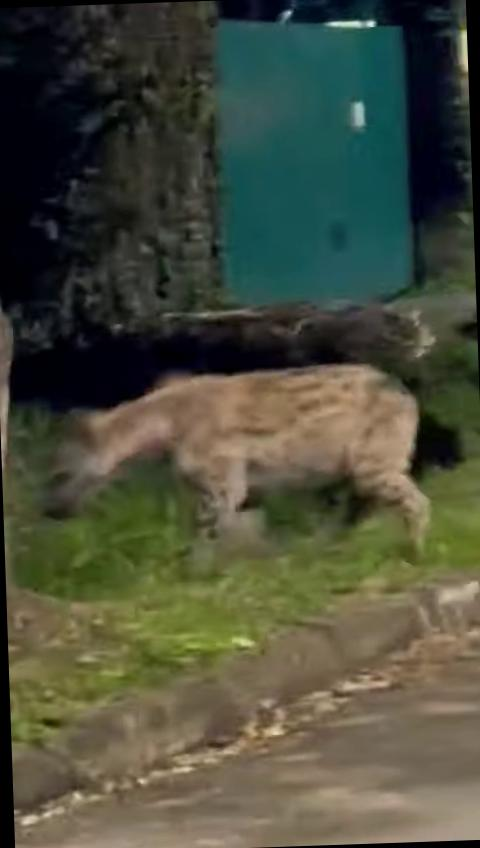hyenas: (36, 344, 480, 592)
